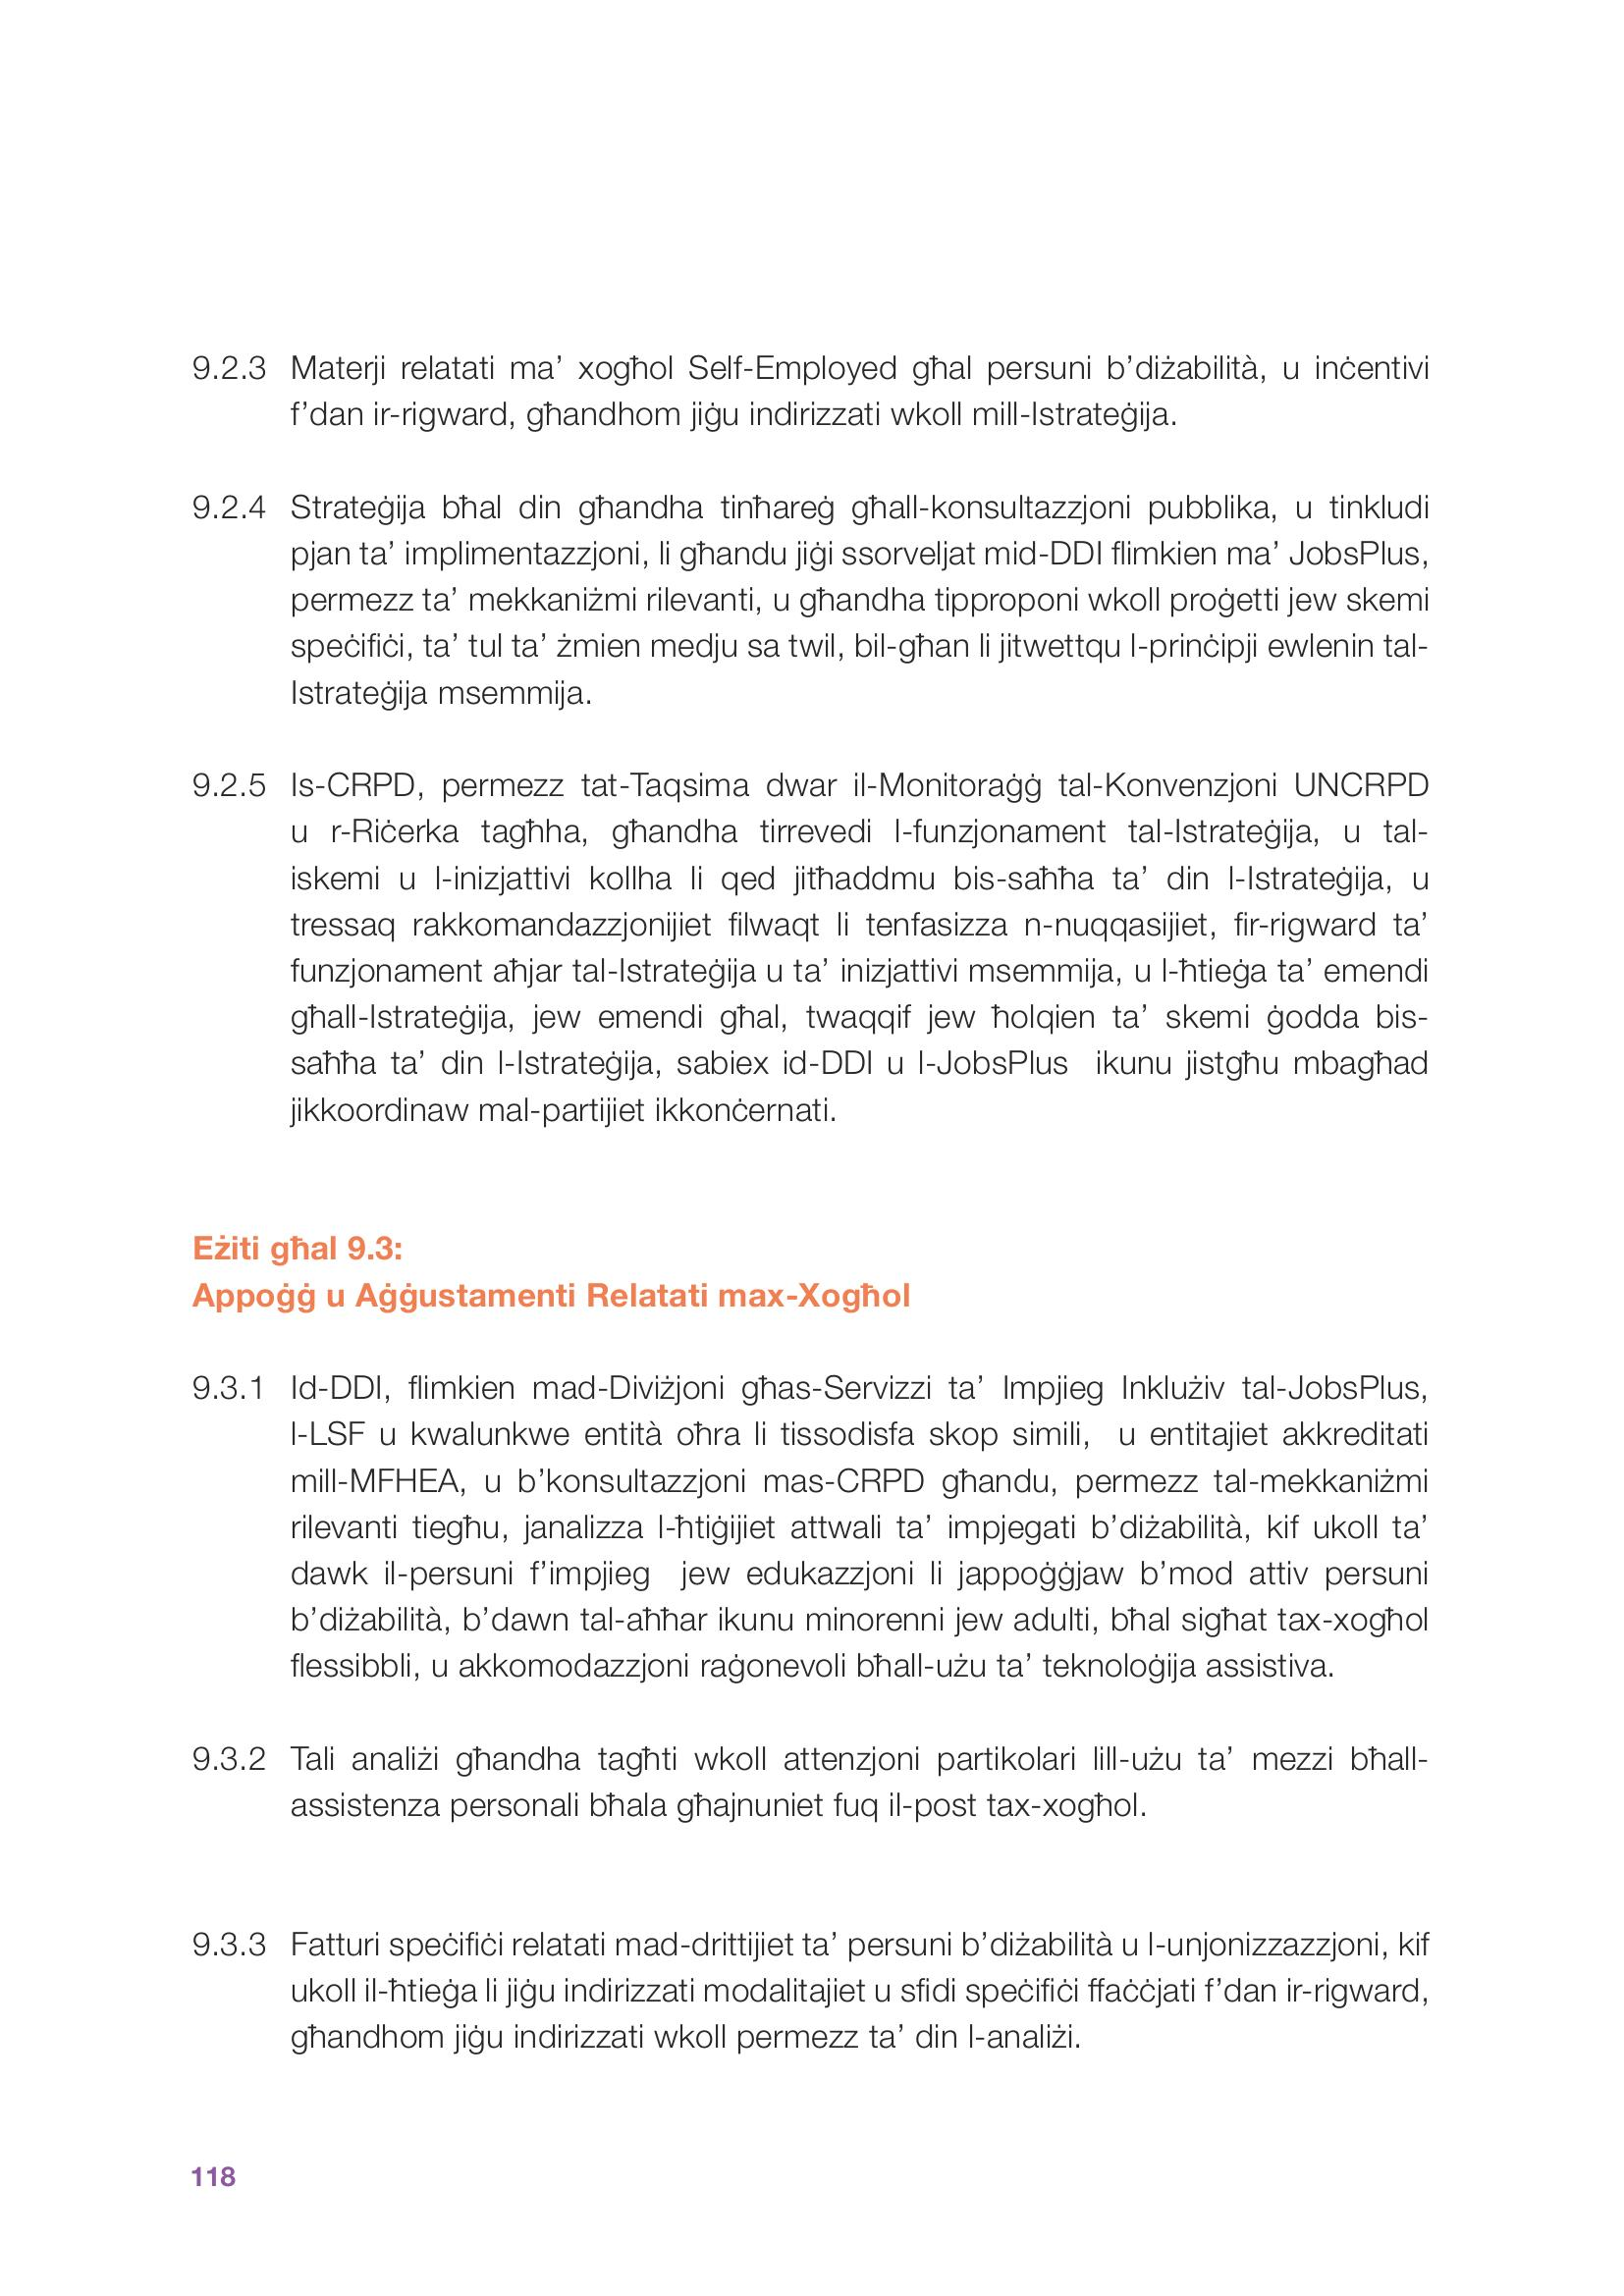text: (155, 327, 1464, 2090)
